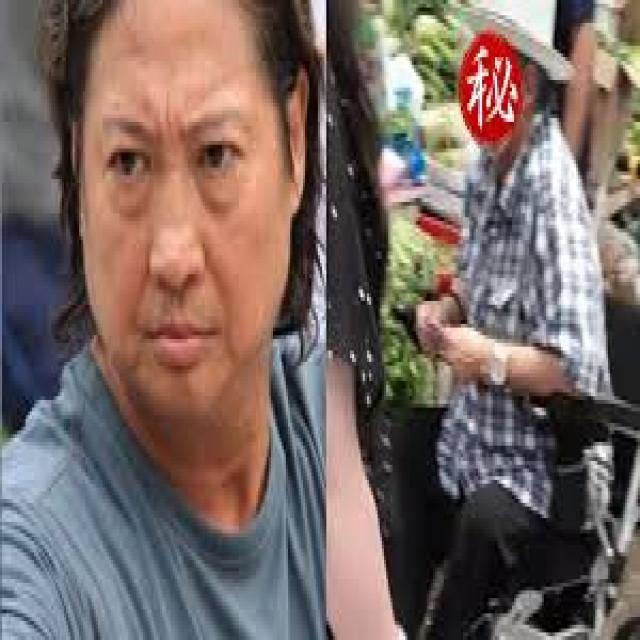wheelchairs: (409, 248, 638, 636)
